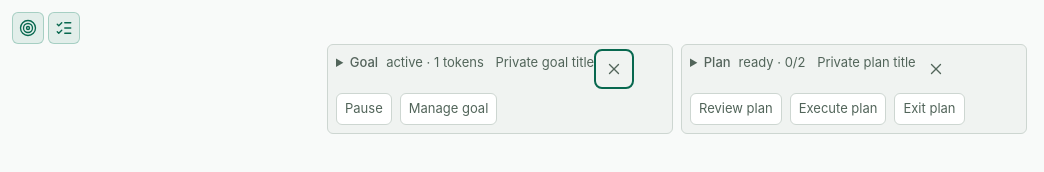
Test: ExtensionUIPanel › returns keyboard focus from hidden Goal to its toolbar and then back to the card
Click the button named "Hide Goal" next to "Private goal title": (614, 69) [598, 53, 630, 85]
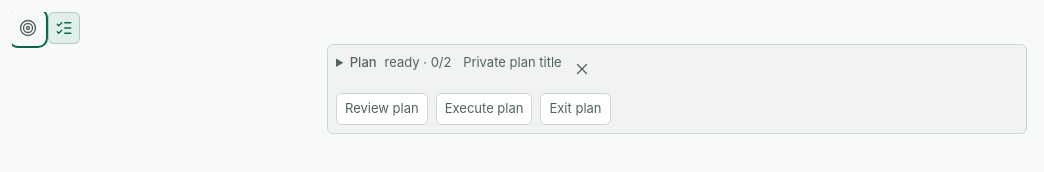
Click the button named "Show Goal": (28, 28) [12, 12, 44, 44]
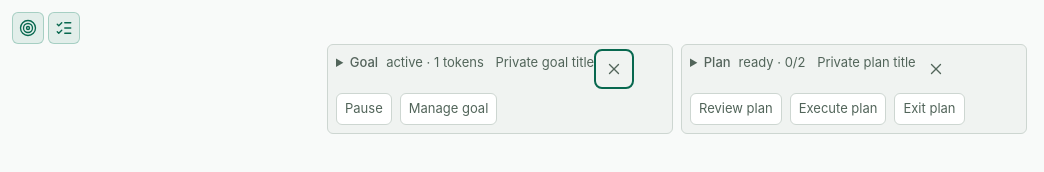
Check: the element with test id "workflow-goal" is shown, box [327, 44, 673, 134]
